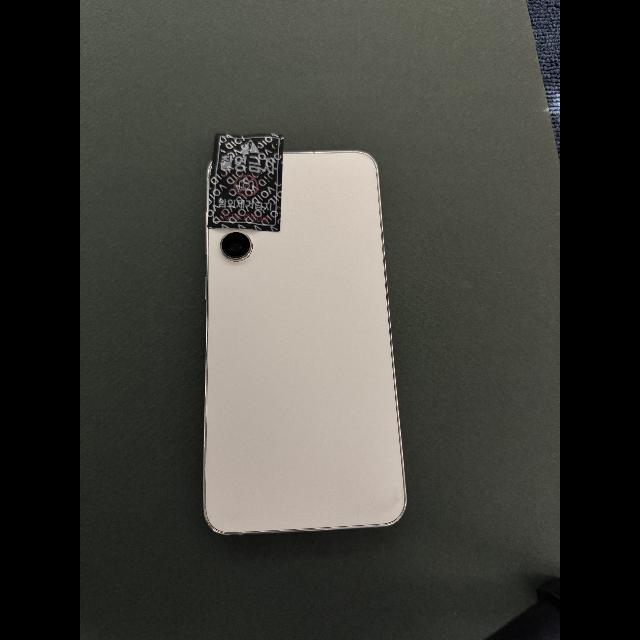lens: (222, 232, 250, 260)
phone: (203, 150, 407, 536)
sticker: (207, 133, 284, 232)
